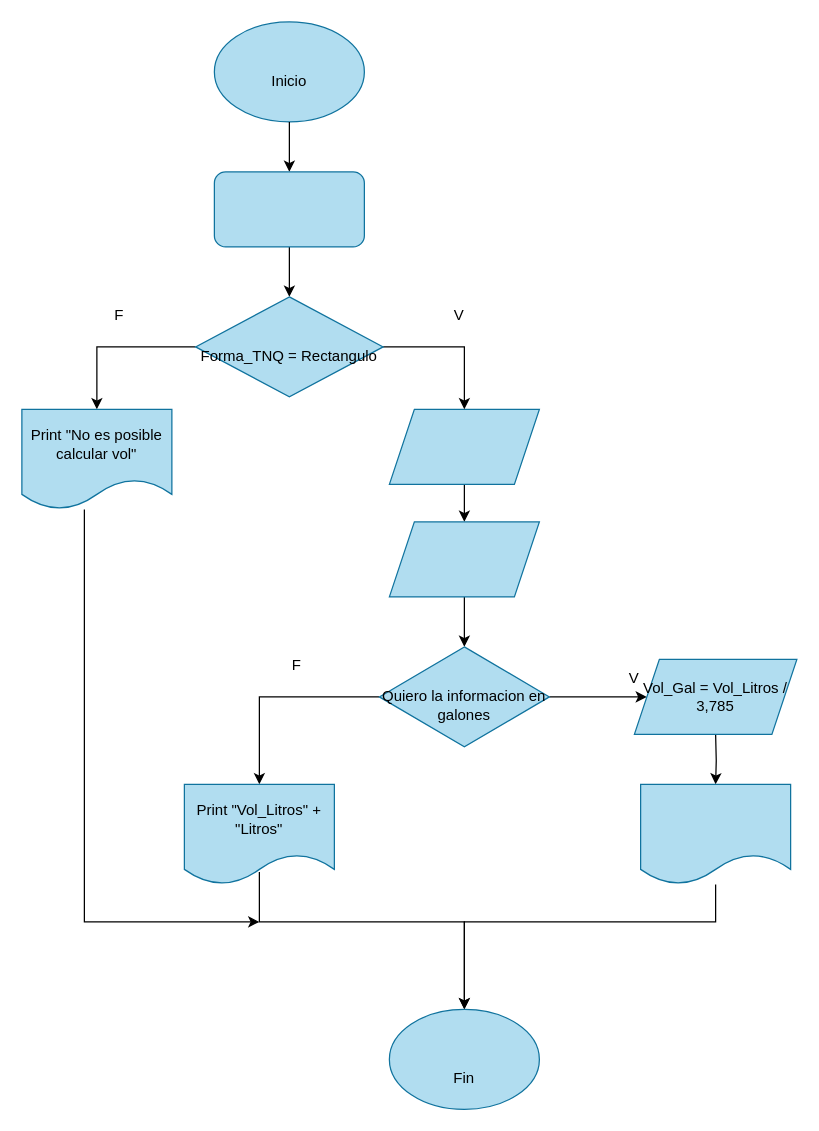
The diagram is 819 pixels wide and 1131 high, and some of its shapes have lost their labels. Each missing label, with the centre of its shape:
Forma_TNQ, Largo, Ancho, Alto: the point at 288,209
Print "Vol_Gal" + "Galones": the point at 715,833
Vol cm^3 = Largo * Ancho * Alto: the point at 463,446
Vol_Litros = Vol cm^3 / 1000: the point at 463,559
